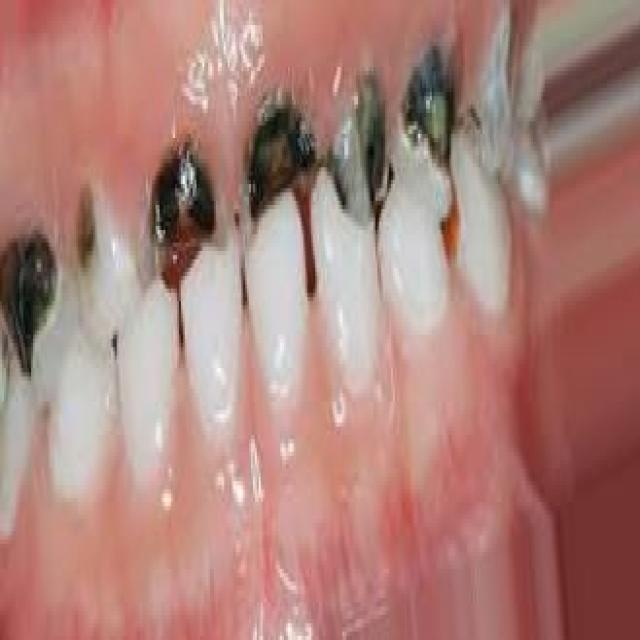caries: (128, 122, 235, 292), (235, 80, 322, 254), (389, 17, 462, 219), (0, 217, 70, 400), (322, 53, 392, 231), (455, 17, 519, 186), (69, 162, 115, 300)
